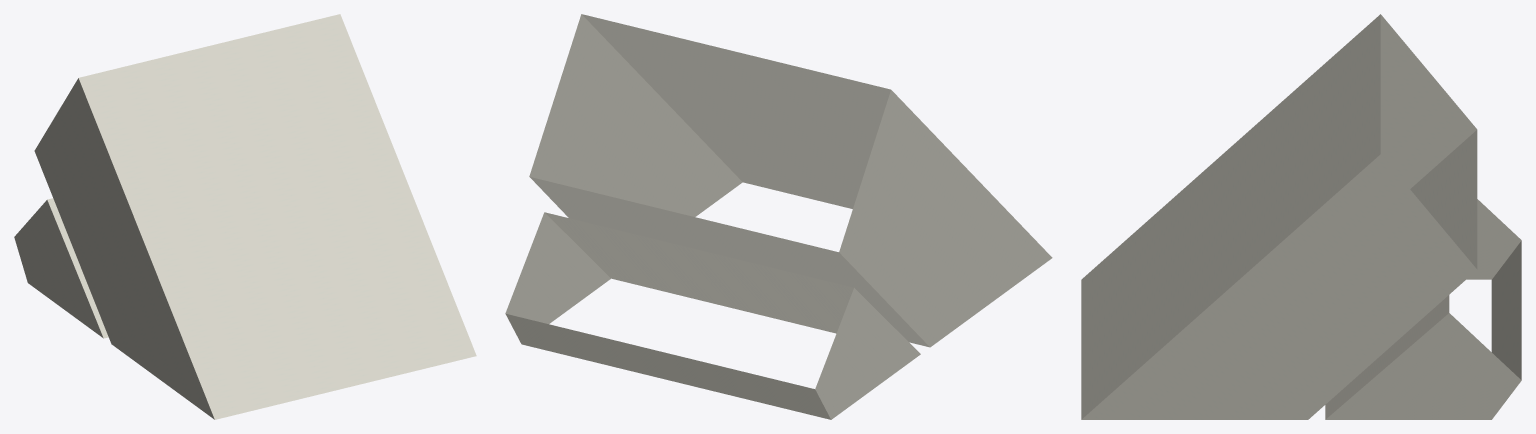
Rendered from sunbeam_blinds_half_up_closed.fbx.
The picture shows the model from 3 angles, left to right: view 1: azimuth 30°, elevation 25°; view 2: azimuth 150°, elevation 25°; view 3: azimuth 270°, elevation 25°; orthographic projection. The views are drawn at different scales.
Visible parts, largest first — view 1: mesh_0; view 2: mesh_0; view 3: mesh_0.
Part boxes in pixels (x1,y1,x2,y2): mesh_0: [14, 14, 476, 419]; mesh_0: [505, 14, 1052, 419]; mesh_0: [1081, 14, 1521, 419].
Bounding box in the file's own units: 160 × 141 × 212.
1 material, 1 textured.
